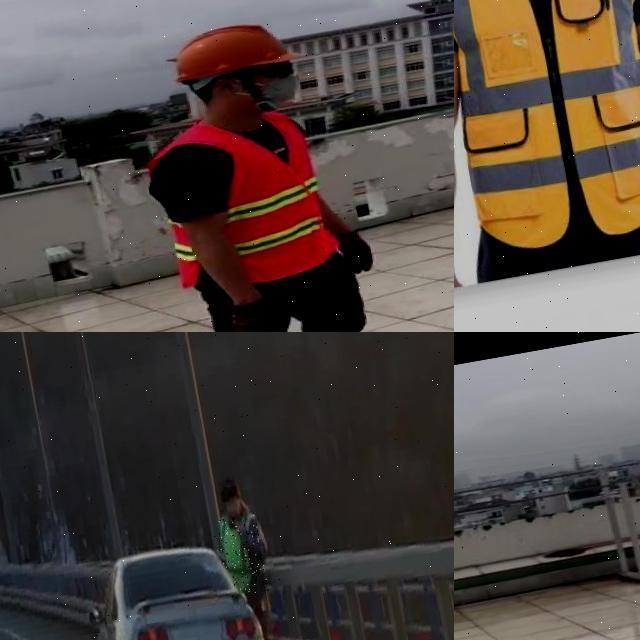helmet: (164, 10, 307, 81)
vest: (454, 0, 640, 265), (144, 105, 341, 297), (214, 514, 268, 598)
